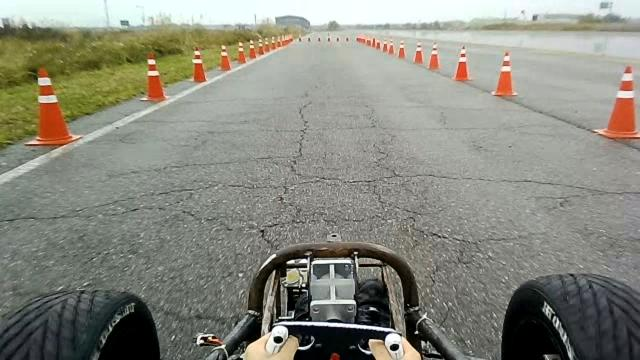red cone: (23, 66, 82, 146), (592, 64, 639, 139), (139, 51, 170, 102), (490, 51, 518, 96), (453, 45, 473, 81), (191, 46, 207, 83), (216, 44, 232, 71), (427, 41, 441, 71), (236, 40, 247, 63), (413, 40, 424, 63), (248, 38, 256, 58), (398, 39, 406, 58), (387, 36, 395, 55)
